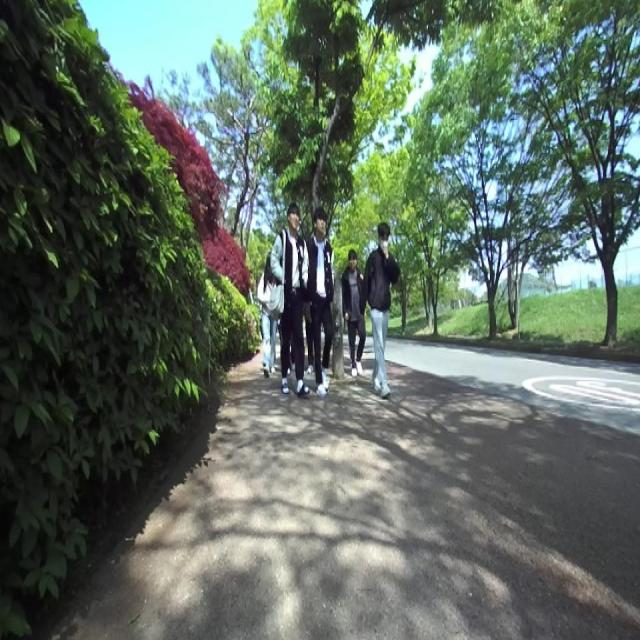sidewalk: (51, 357, 640, 639), (246, 364, 530, 425)
